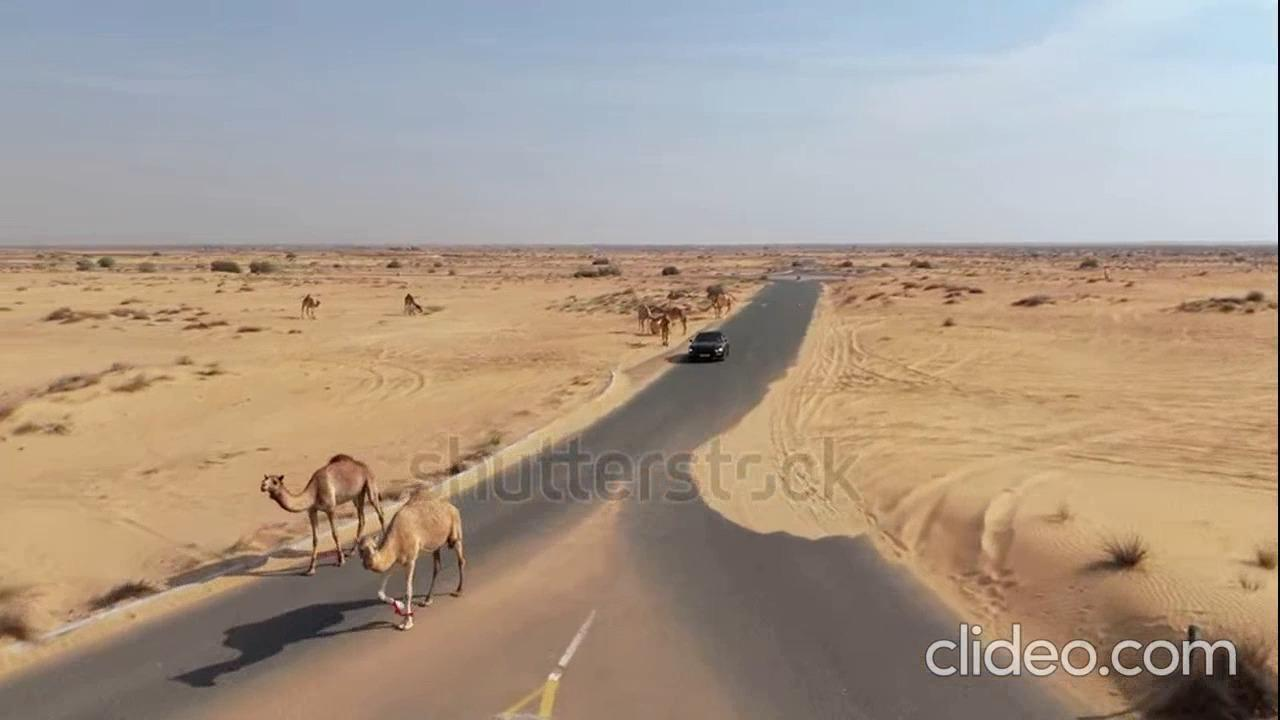camel: (260, 444, 389, 581), (364, 481, 470, 630)
